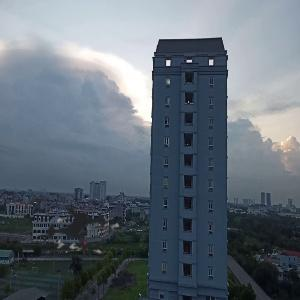drone: (19, 173, 137, 291)
